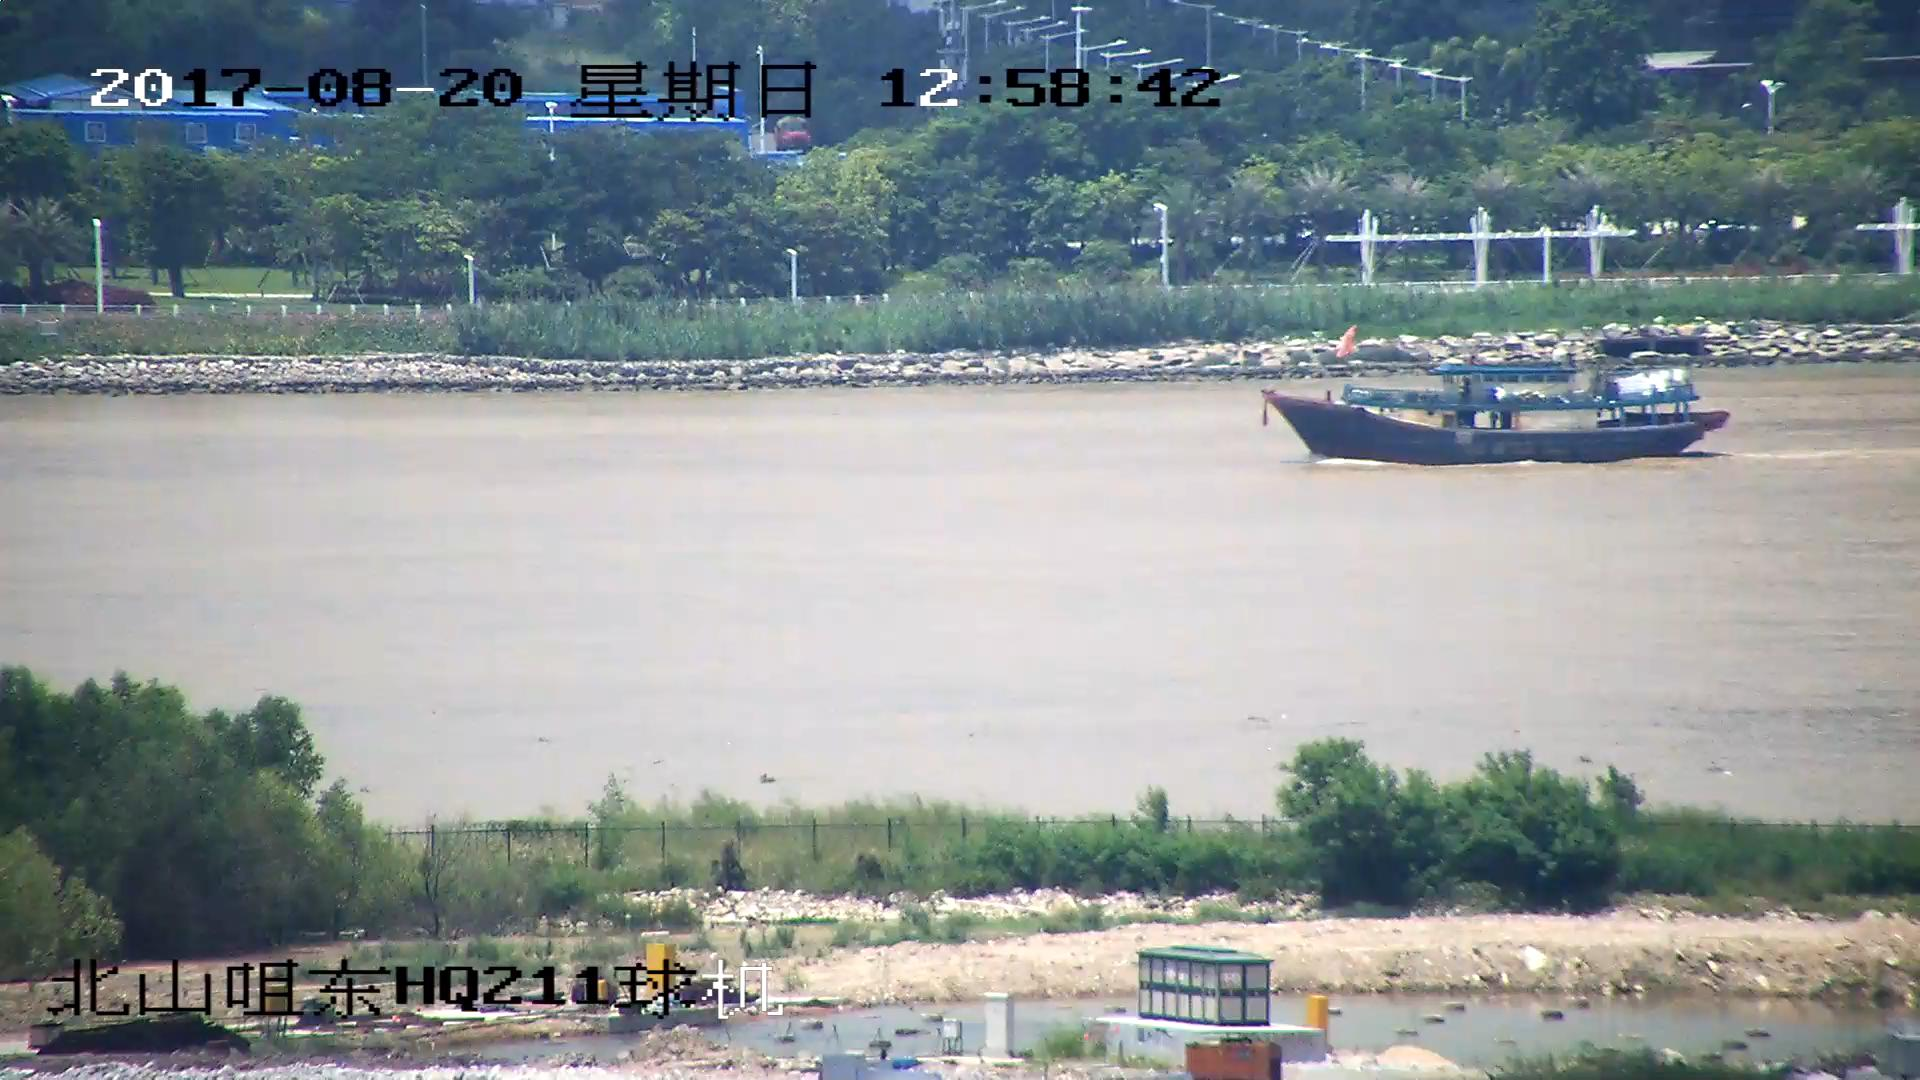fishing boat: (1262, 357, 1729, 464)
